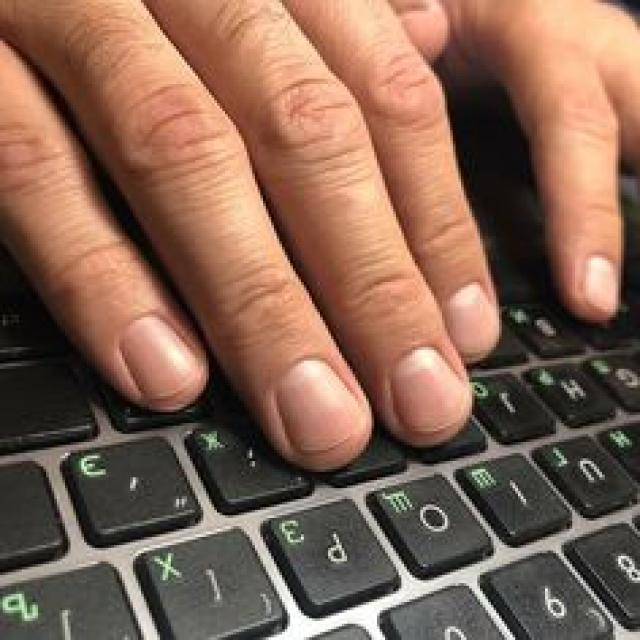Fingernail: (278, 360, 364, 451), (393, 346, 469, 435), (122, 313, 197, 402), (445, 281, 499, 357), (580, 255, 619, 314)
